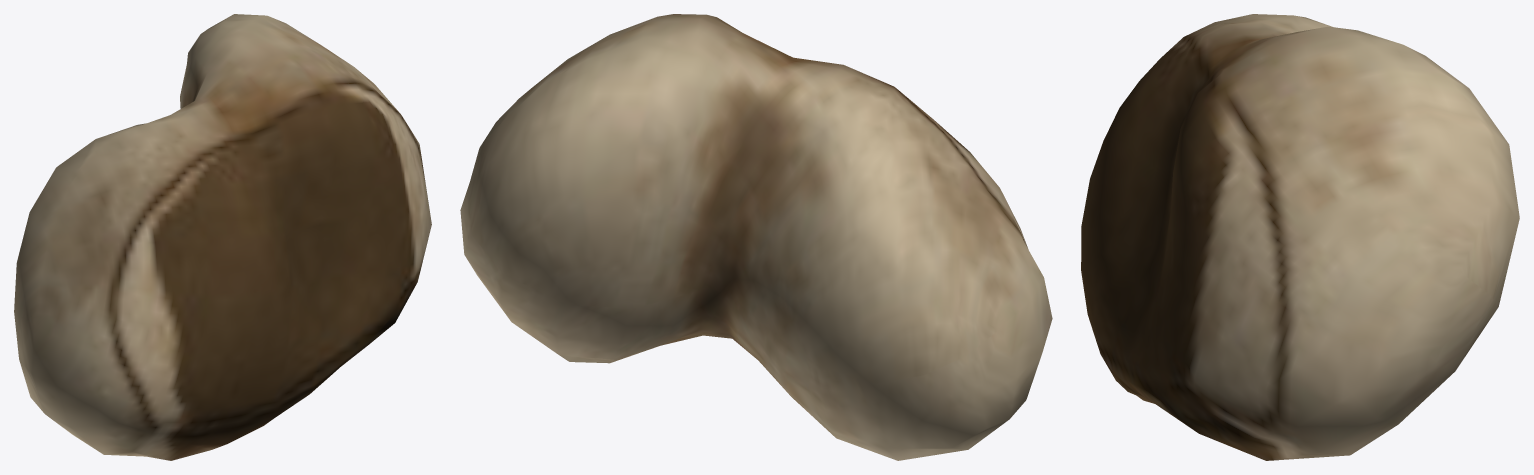
Rendered from Sesamoids.glb.
3 renders of one model, left to right at view 1: azimuth 30°, elevation 25°; view 2: azimuth 150°, elevation 25°; view 3: azimuth 270°, elevation 25°, orthographic. The views are drawn at different scales.
Visible parts, largest first — view 1: L_Bck_Sesamoid; view 2: L_Bck_Sesamoid; view 3: L_Bck_Sesamoid.
Part boxes in pixels (x1,y1,x2,y2): L_Bck_Sesamoid: (14, 14, 431, 460); L_Bck_Sesamoid: (460, 14, 1052, 460); L_Bck_Sesamoid: (1081, 14, 1519, 460).
Bounding box in the file's own units: 0.0461 × 0.0367 × 0.0332.
1 material, 1 textured.
